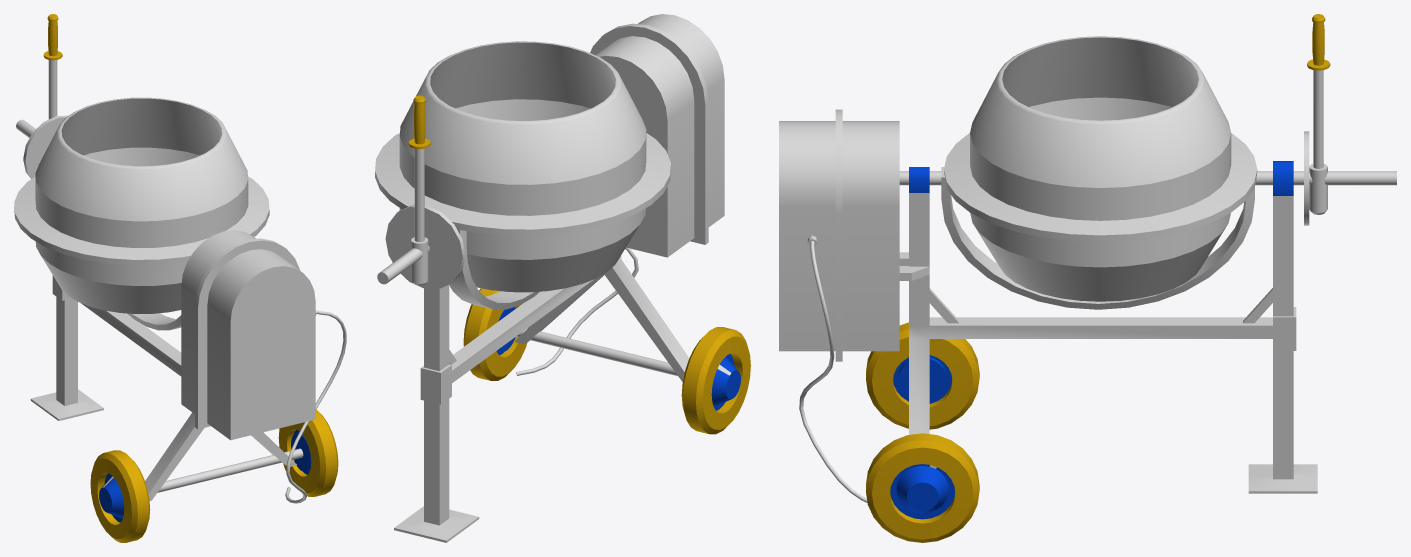
File: ConcreteMixerdSub3.fbx
3 renders of one model, left to right at view 1: azimuth 30°, elevation 25°; view 2: azimuth 150°, elevation 25°; view 3: azimuth 270°, elevation 25°, orthographic. The views are drawn at different scales.
Visible parts, largest first — view 1: Cylinder; view 2: Cylinder; view 3: Cylinder.
Part boxes in pixels (x1,y1,x2,y2): Cylinder: (14, 14, 346, 542); Cylinder: (375, 14, 750, 542); Cylinder: (779, 14, 1396, 542).
Bounding box in the file's own units: 144 × 237 × 284.
